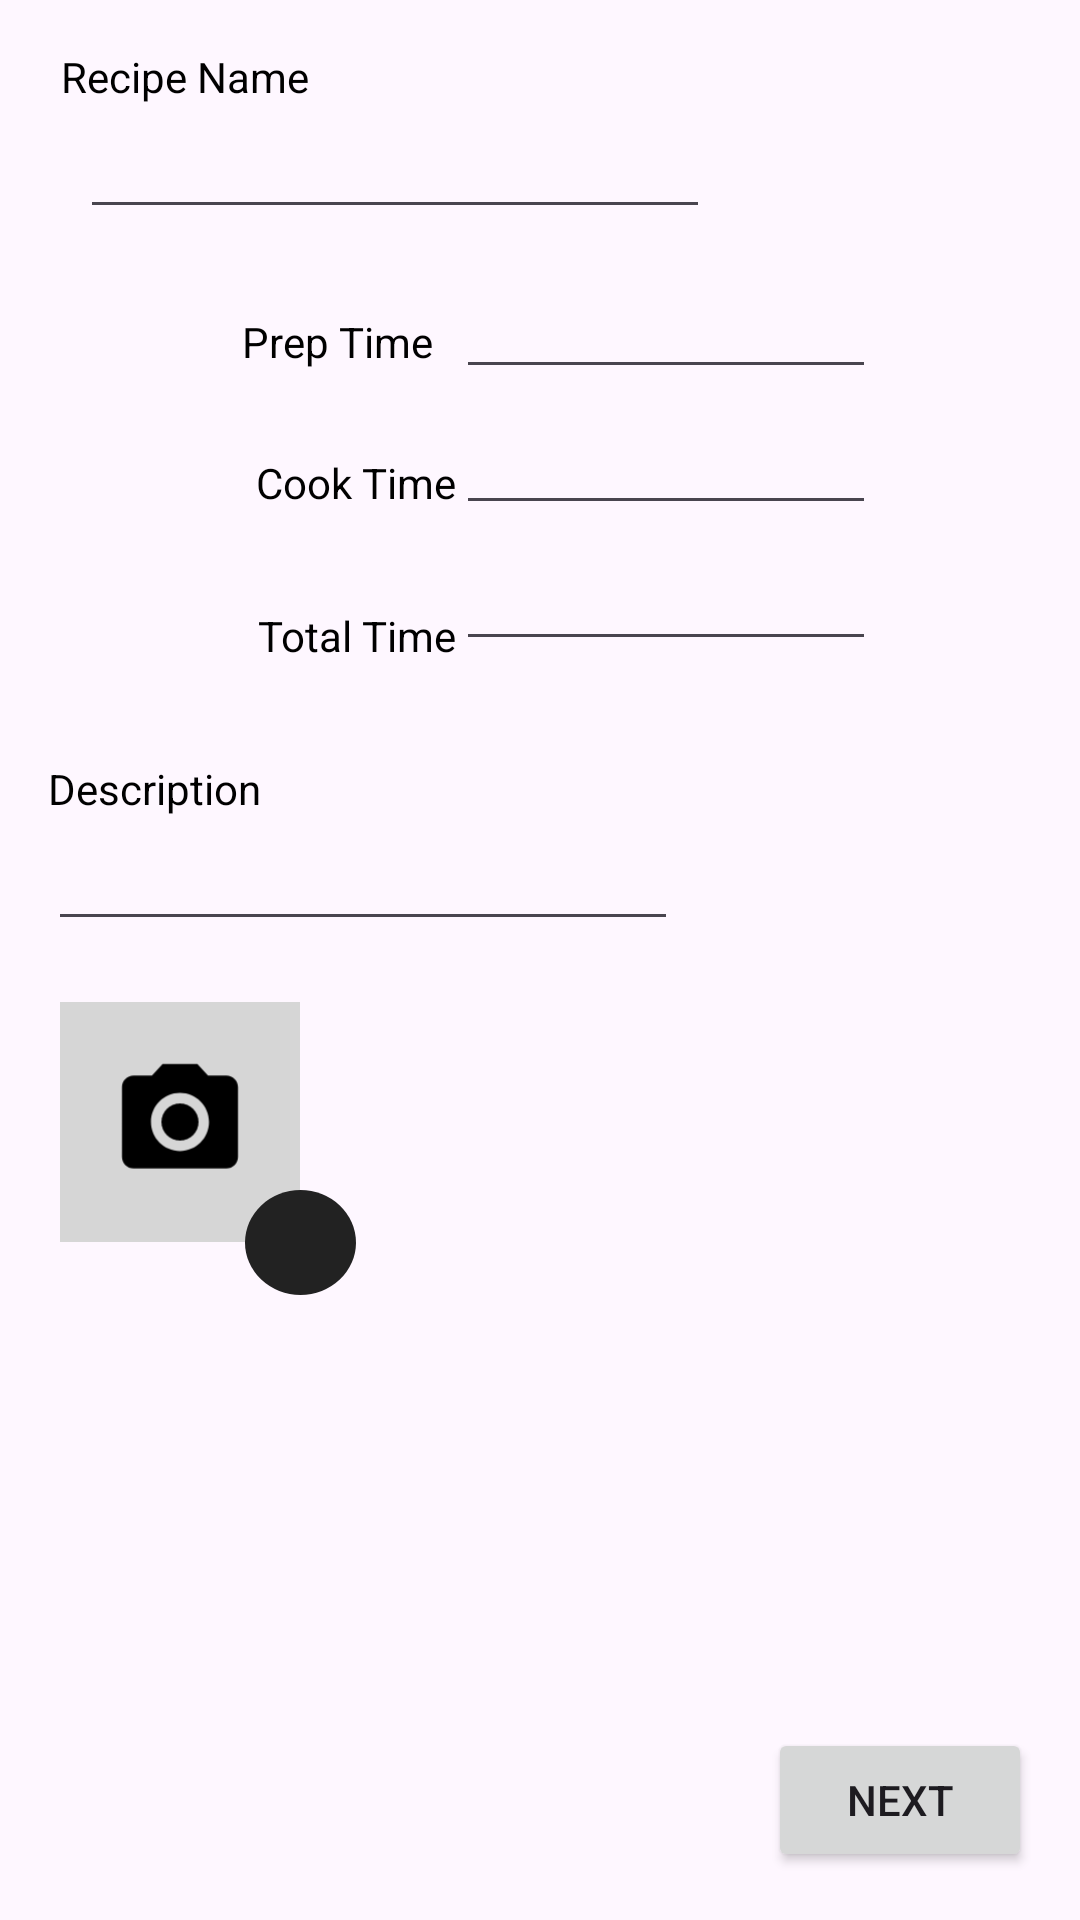

Icons on this 1080×1920 Android screen, each with the point to tap as [x,y]:
photo: [180,1122]
